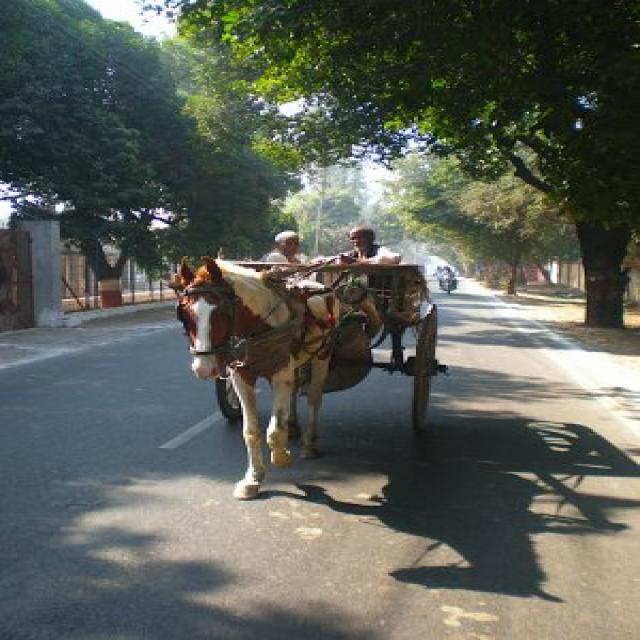motor: (438, 274, 456, 295)
